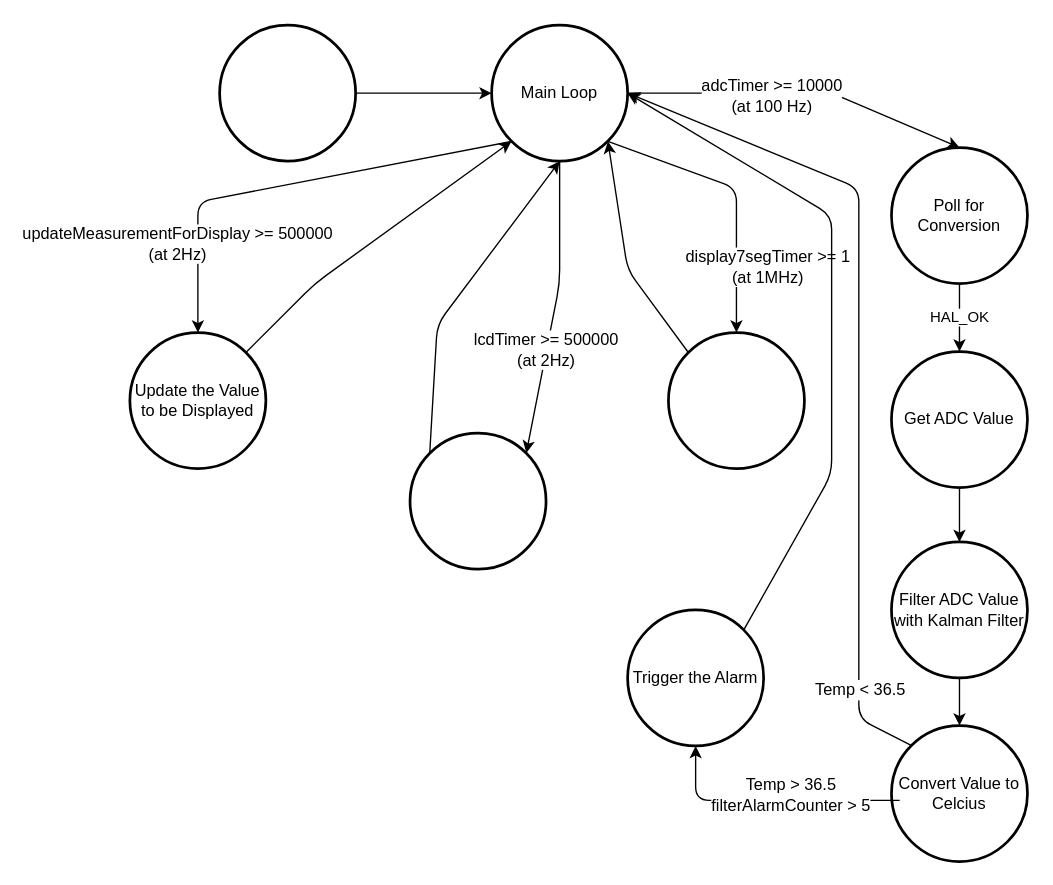
This 1053x885 diagram has some shape labels left out. The shapes that lost their labels are listed below. From the top down, each one's centre as x and y in pixels, then its label:
the point at 287,92: Initialisation (Clocks, ADC, GPIO, Systick, LCD Display, Kalman Filter)
the point at 735,399: Update 7-Segment Display
the point at 477,500: Update LCD
